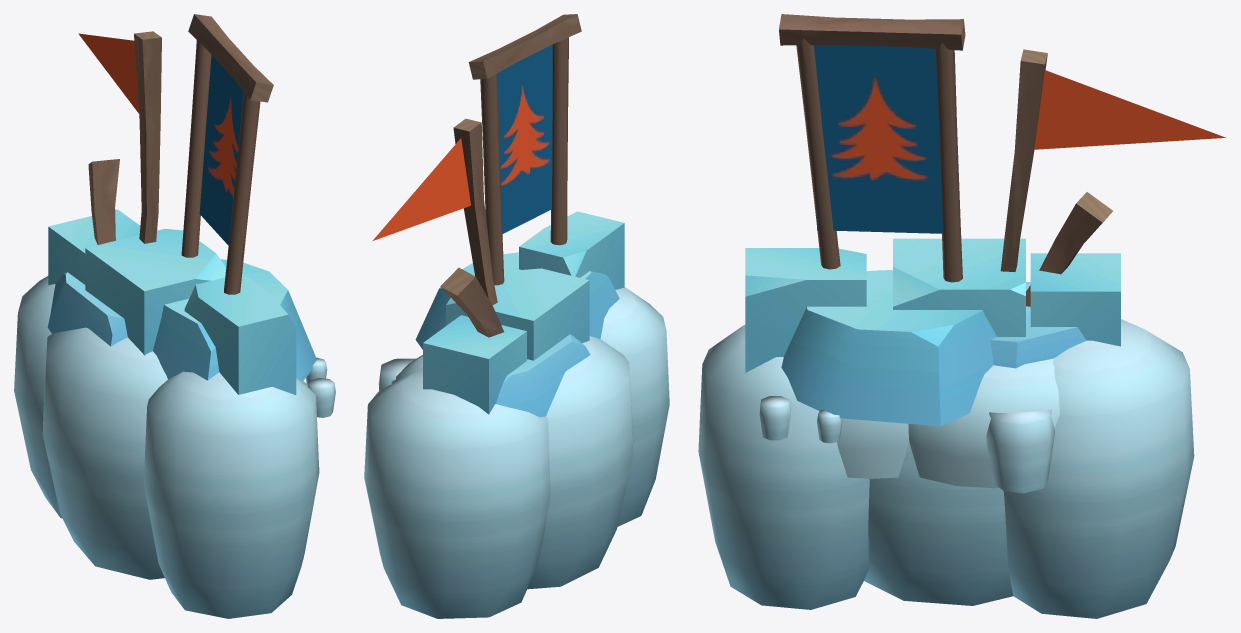
The model's file is Wall1B-001_40_27_1162.fbx.
3 renders of one model, left to right at view 1: azimuth 30°, elevation 25°; view 2: azimuth 150°, elevation 25°; view 3: azimuth 270°, elevation 25°, orthographic. The views are drawn at different scales.
Parts seen in each view (by area): view 1: Snowpile (1), Snowpile (7), Wall, Snowpile (6), Rock (2), Flag2.001 (1), Wood1.002 (1), WoodFatty, WoodFatty (1), Rock (1), WoodTop (2), Wood1.002 (2) (+2 smaller); view 2: Snowpile (6), Wall, Snowpile (7), Flag2.001 (1), Snowpile (1), Rock (1), Flag1.001 (1), Wood1.002 (1), WoodFatty (1), WoodFatty, Rock (2), WoodTop (2) (+2 smaller); view 3: Snowpile (6), Wall, Snowpile (1), Rock (2), Flag2.001 (1), Snowpile (7), Flag1.001 (1), WoodTop (2), Snowpile (5), Wood1.002 (1), WoodFatty (1), WoodFatty (+3 smaller).
Boxes of the visible parts, bbox=[...] form: Snowpile (1): bbox=[143, 371, 319, 618]; Snowpile (7): bbox=[42, 327, 167, 579]; Wall: bbox=[48, 209, 296, 394]; Snowpile (6): bbox=[14, 276, 61, 518]; Rock (2): bbox=[153, 259, 316, 380]; Flag2.001 (1): bbox=[199, 55, 243, 260]; Wood1.002 (1): bbox=[134, 31, 161, 243]; WoodFatty: bbox=[224, 92, 260, 294]; WoodFatty (1): bbox=[181, 40, 211, 257]; Rock (1): bbox=[47, 272, 127, 346]; WoodTop (2): bbox=[188, 14, 273, 102]; Wood1.002 (2): bbox=[88, 159, 119, 244]; Snowpile (6): bbox=[364, 367, 550, 618]; Wall: bbox=[391, 211, 624, 414]; Snowpile (7): bbox=[527, 336, 633, 589]; Flag2.001 (1): bbox=[497, 44, 552, 233]; Snowpile (1): bbox=[600, 287, 669, 526]; Rock (1): bbox=[496, 334, 590, 417]; Flag1.001 (1): bbox=[372, 138, 470, 240]; Wood1.002 (1): bbox=[453, 118, 497, 305]; WoodFatty (1): bbox=[480, 73, 504, 285]; WoodFatty: bbox=[550, 37, 568, 245]; Rock (2): bbox=[415, 252, 619, 349]; WoodTop (2): bbox=[468, 14, 581, 79]; Snowpile (6): bbox=[1003, 319, 1194, 618]; Wall: bbox=[745, 238, 1120, 488]; Snowpile (1): bbox=[698, 325, 870, 609]; Rock (2): bbox=[781, 270, 996, 426]; Flag2.001 (1): bbox=[814, 45, 943, 233]; Snowpile (7): bbox=[864, 440, 1013, 605]; Flag1.001 (1): bbox=[1034, 70, 1225, 149]; WoodTop (2): bbox=[779, 14, 965, 50]; Snowpile (5): bbox=[986, 409, 1054, 493]; Wood1.002 (1): bbox=[1000, 49, 1047, 271]; WoodFatty (1): bbox=[935, 43, 962, 282]; WoodFatty: bbox=[796, 38, 840, 269].
Bounding box in the file's own units: 2.26 × 5.03 × 4.14.
